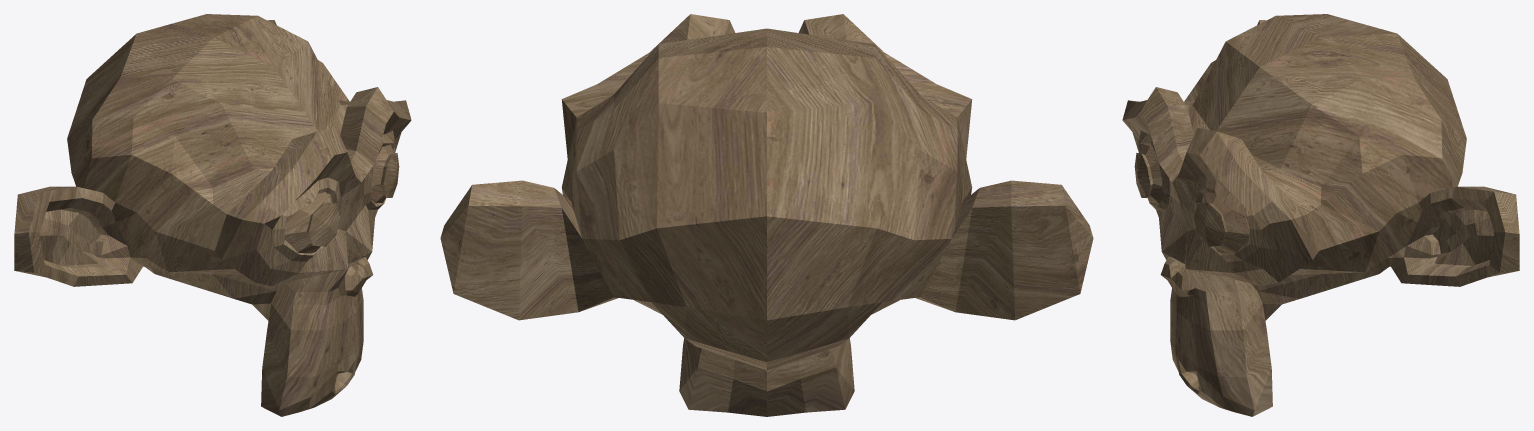
The model's file is suzanne3.gltf.
The picture shows the model from 3 angles, left to right: view 1: azimuth 30°, elevation 25°; view 2: azimuth 150°, elevation 25°; view 3: azimuth 270°, elevation 25°; orthographic projection. The views are drawn at different scales.
Visible parts, largest first — view 1: Suzanne; view 2: Suzanne; view 3: Suzanne.
Boxes of the visible parts, x1=… form: Suzanne: x1=14, y1=14, x2=411, y2=416; Suzanne: x1=440, y1=14, x2=1093, y2=416; Suzanne: x1=1122, y1=14, x2=1519, y2=416.
Size of the model in its own units: 0.5198 by 0.4134 by 0.4388.
Materials: 1 (1 with a texture image).
